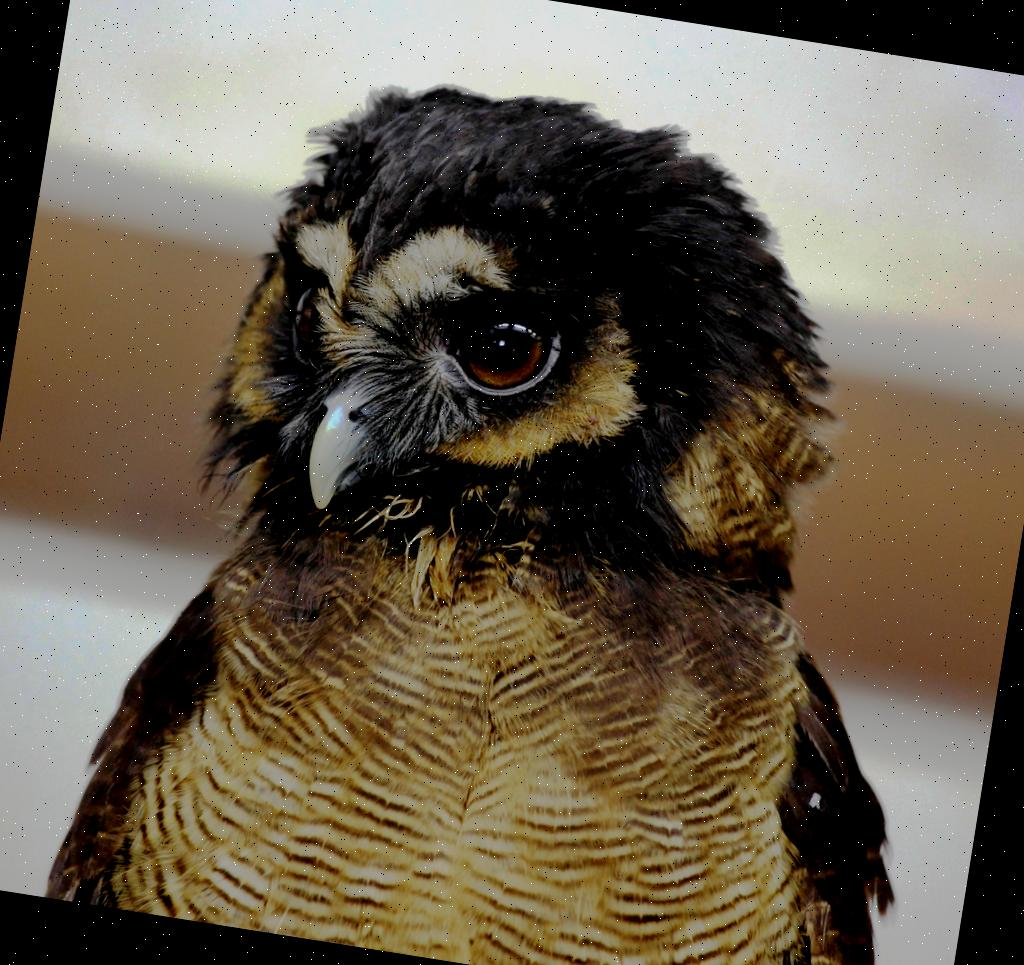Owl: (39, 40, 1015, 965)
